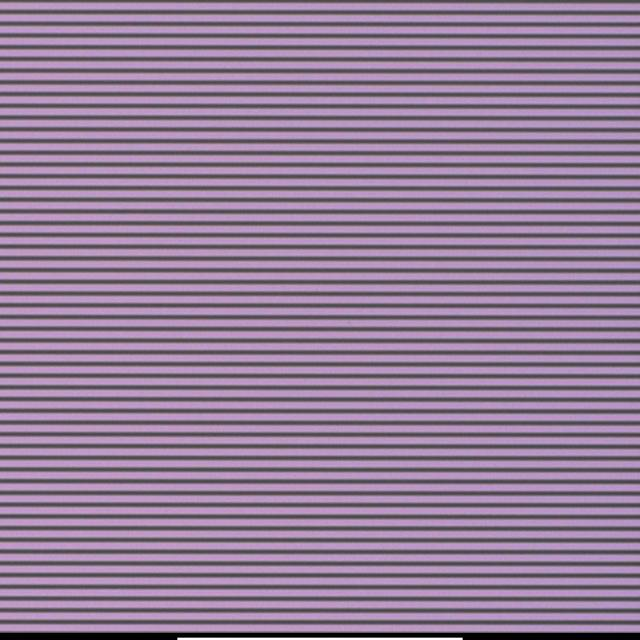nonvisual: (366, 311, 374, 321)
